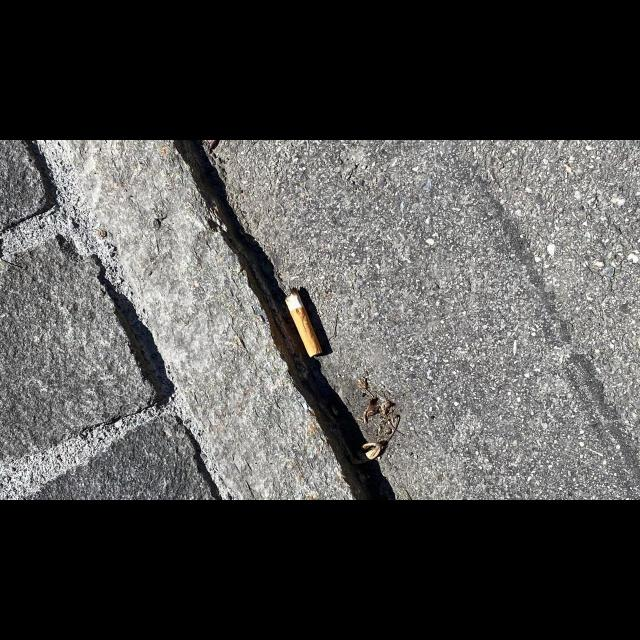cigarette: (285, 287, 322, 358)
